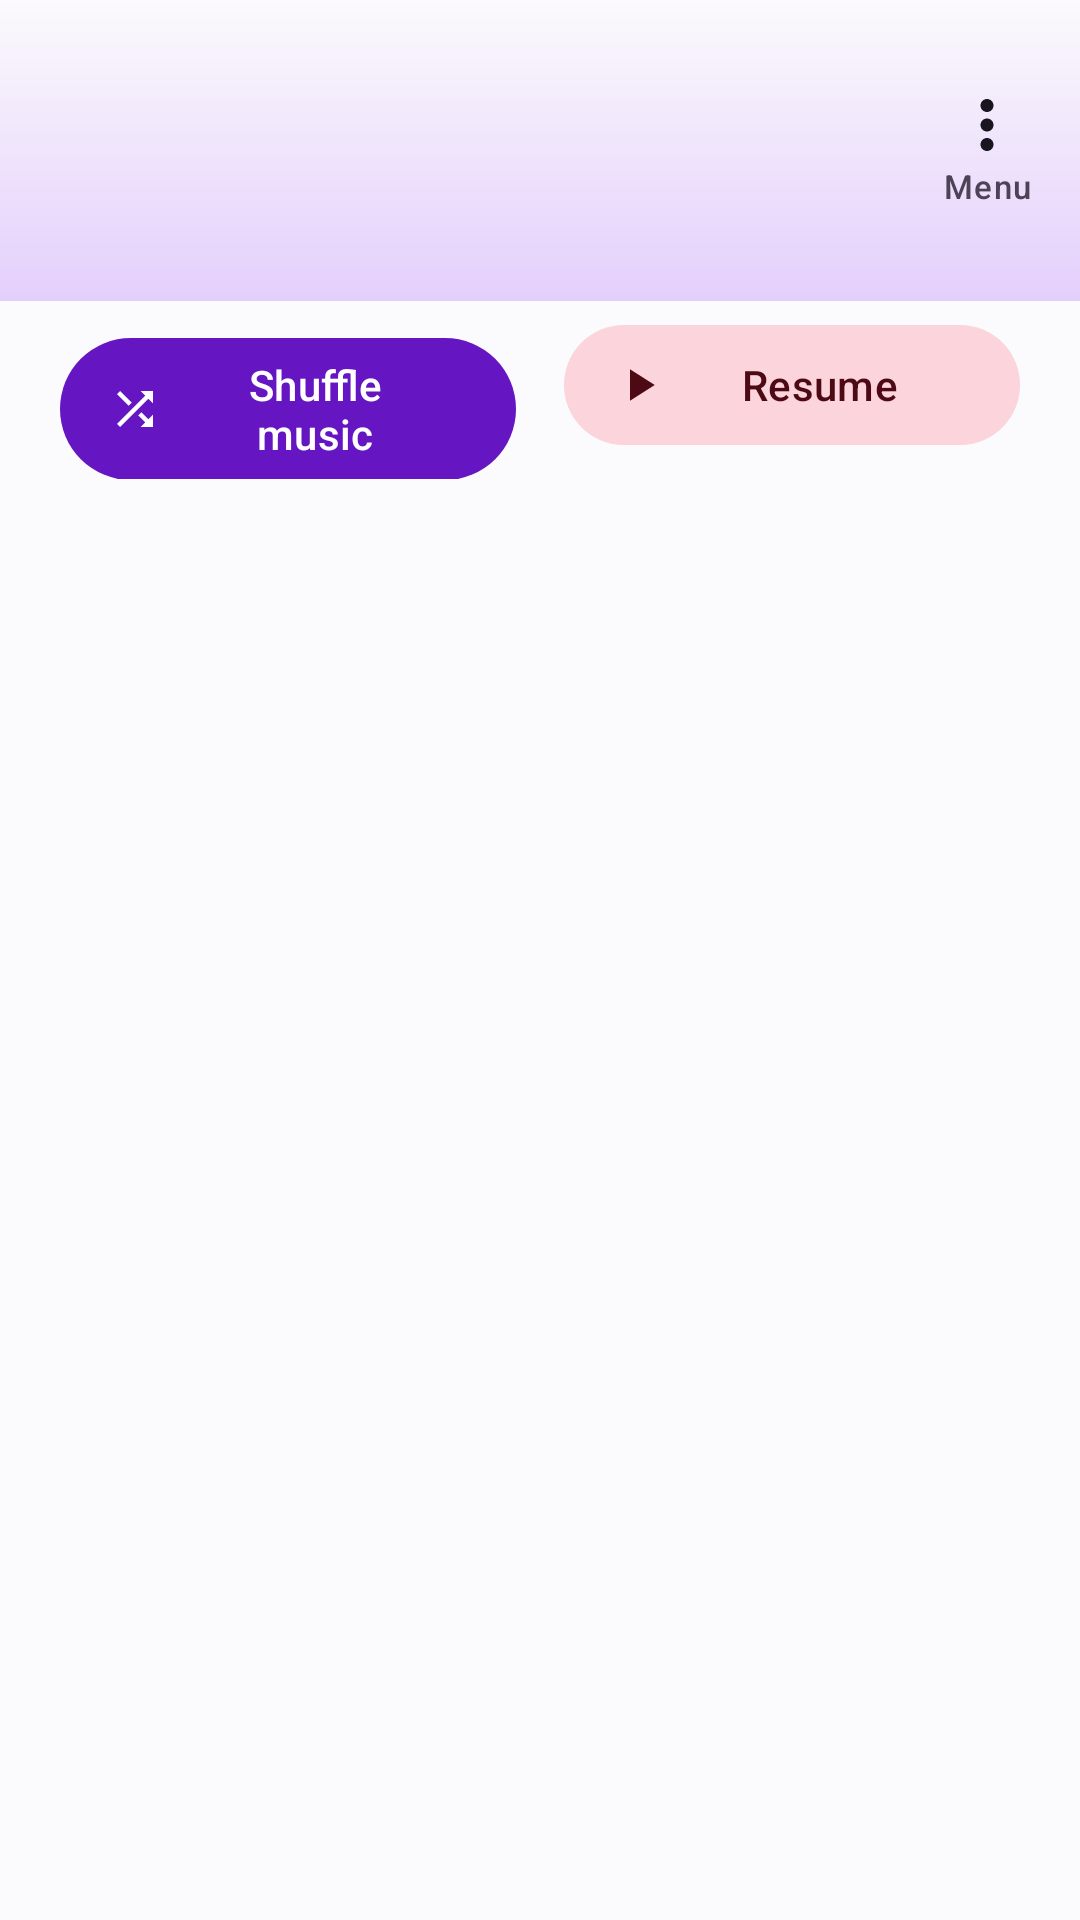

Icon bounding boxes for this 1080w x 1920h phone screenshot, format rect(x1, y1, x2, y2):
more vert: rect(980, 99, 994, 151)
